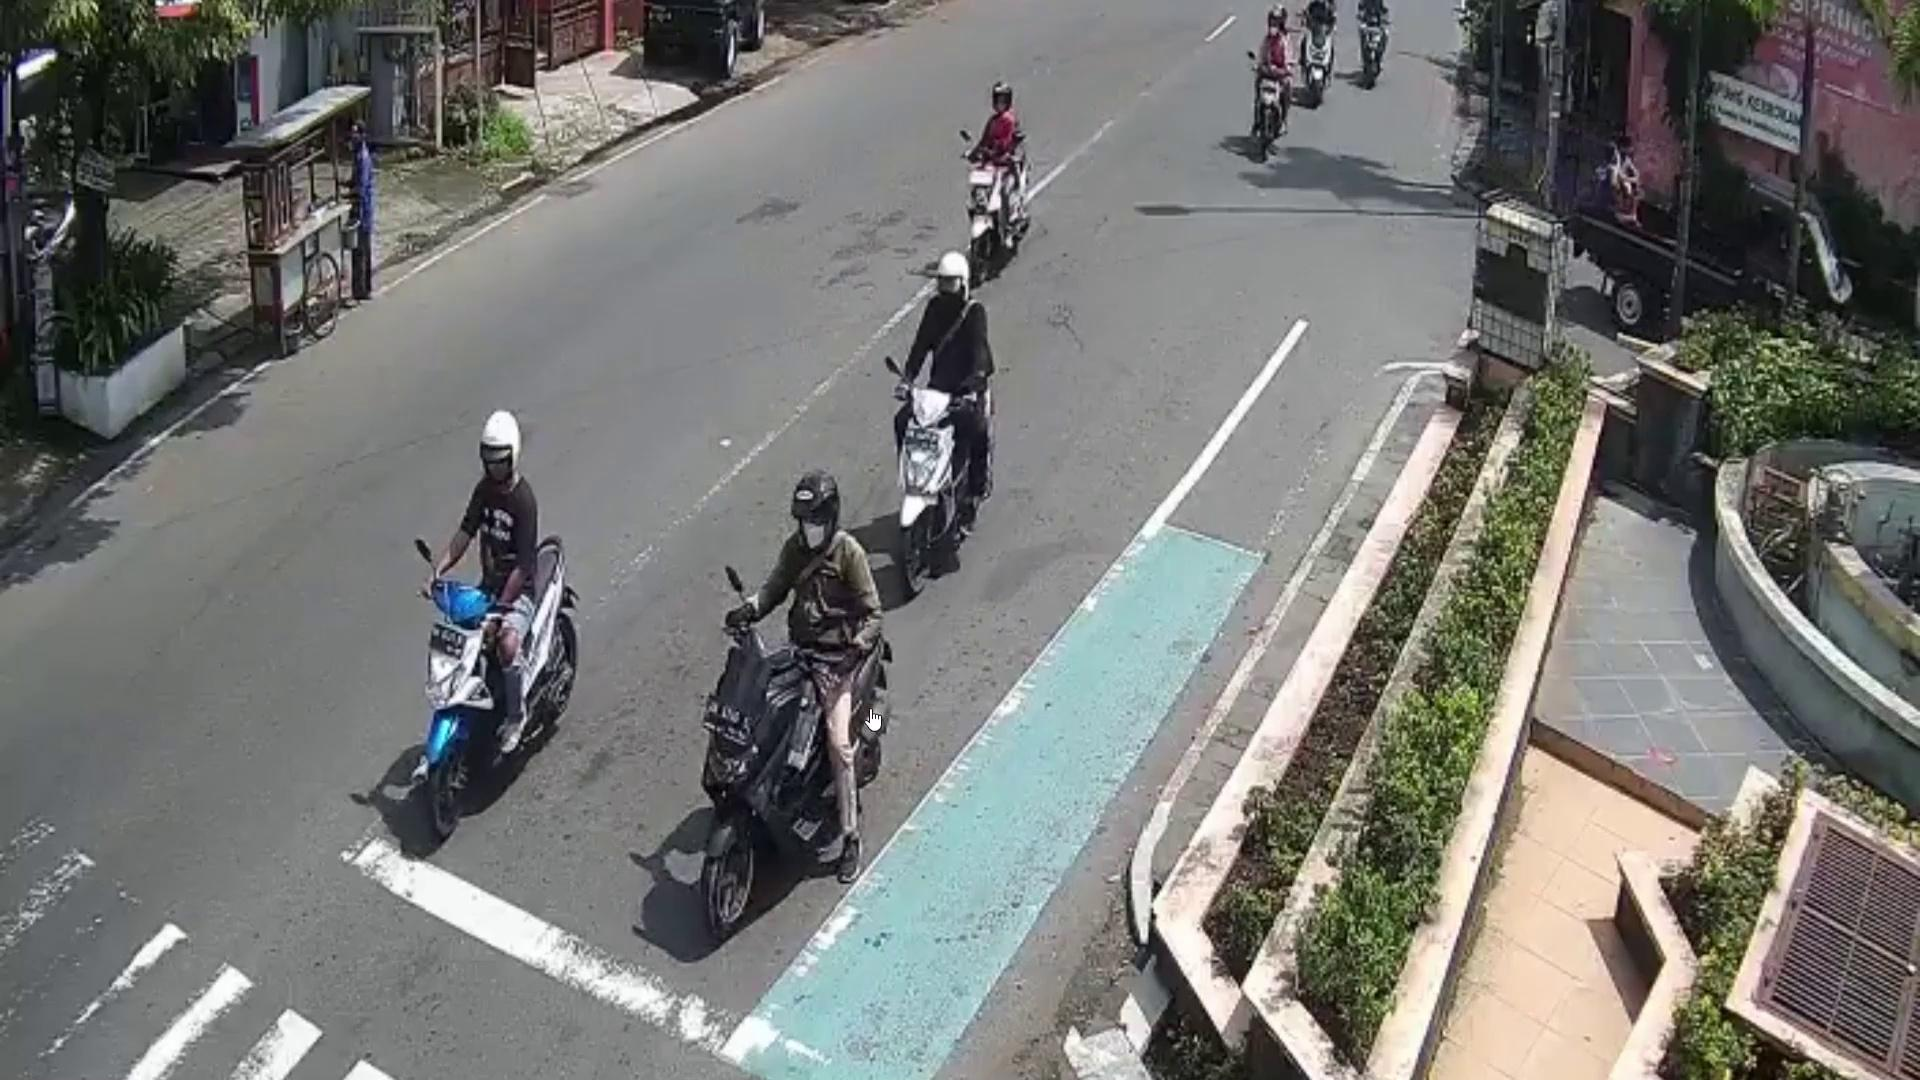car: (1572, 175, 1850, 372)
motorbike: (700, 630, 891, 940), (423, 535, 574, 847), (894, 372, 993, 599), (964, 141, 1033, 276), (1253, 55, 1287, 164)
